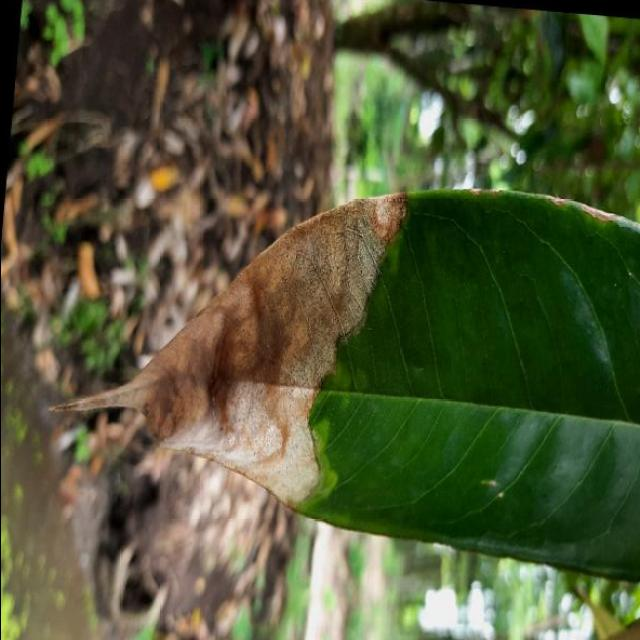Leaf Blight: (27, 142, 640, 594)
